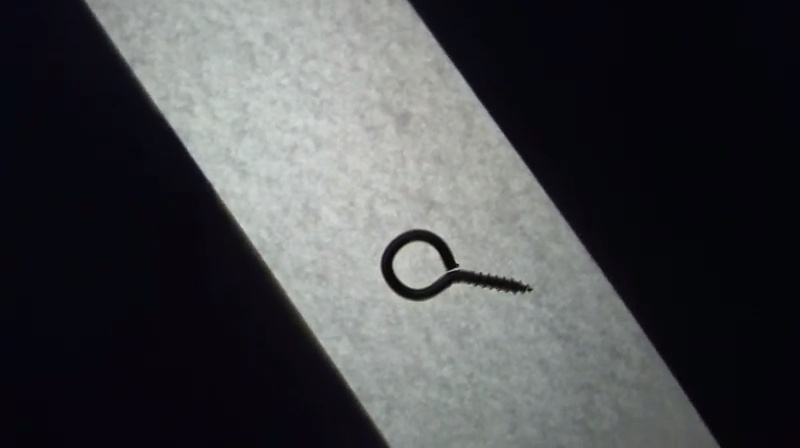O001: (377, 223, 535, 306)
